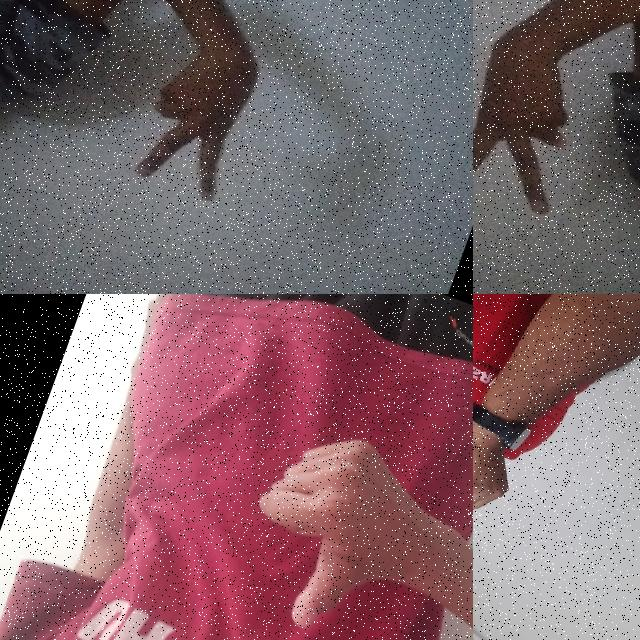Chin Flick: (473, 336, 543, 640)
Reversed Victory: (473, 0, 624, 236), (112, 18, 282, 218)
Thumbs Up: (218, 400, 471, 640)
